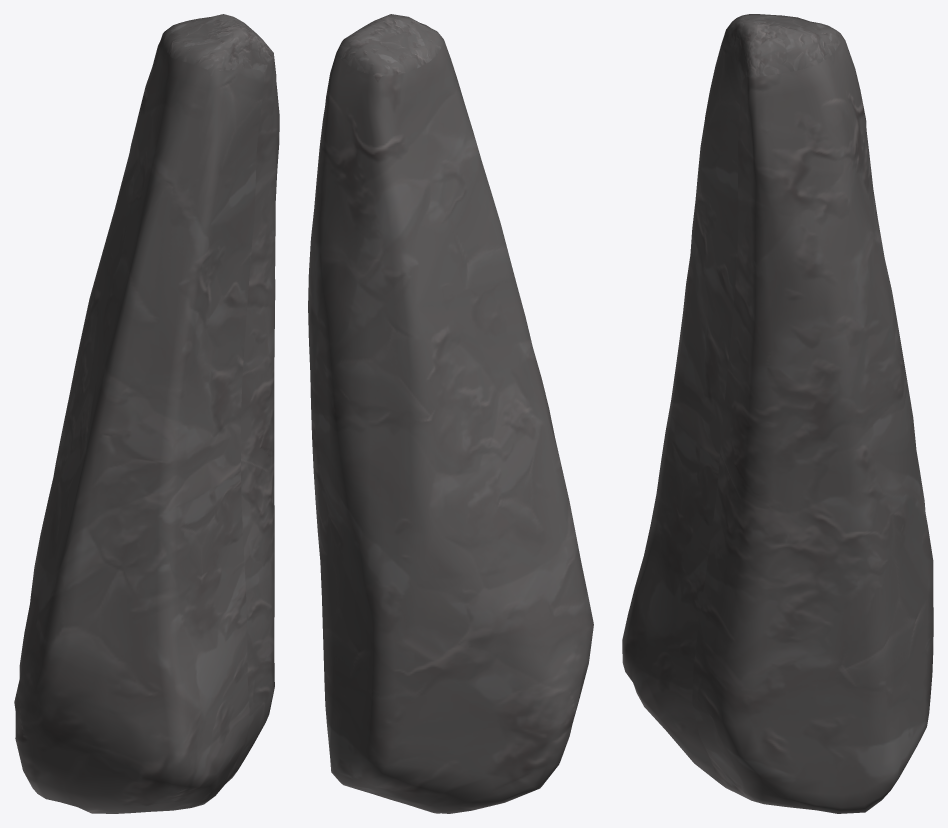
The model's file is MOD_Stalagite.fbx.
The picture shows the model from 3 angles, left to right: view 1: azimuth 30°, elevation 25°; view 2: azimuth 150°, elevation 25°; view 3: azimuth 270°, elevation 25°; orthographic projection. The views are drawn at different scales.
Parts seen in each view (by area): view 1: polySurface14; view 2: polySurface14; view 3: polySurface14.
Boxes of the visible parts, bbox=[...] form: polySurface14: bbox=[14, 14, 279, 813]; polySurface14: bbox=[308, 14, 593, 813]; polySurface14: bbox=[622, 14, 933, 813].
Bounding box in the file's own units: 0.8153 × 2.37 × 0.826.
